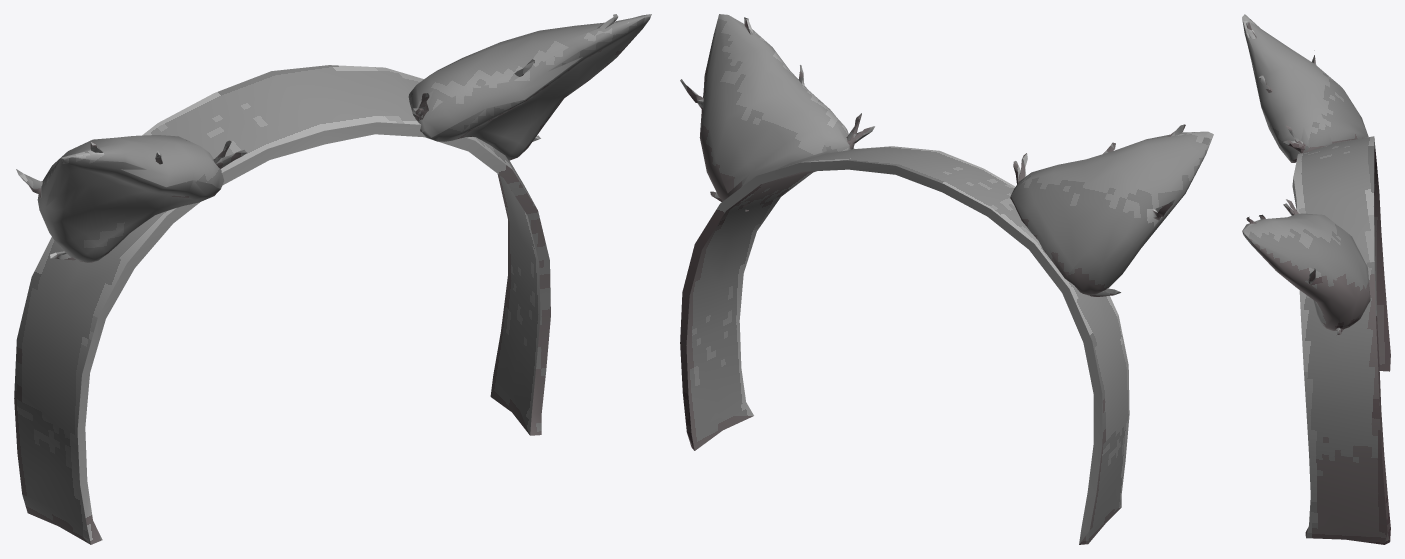
Rendered from wear_catears.glb.
3 views of the same model, side by side, from view 1: azimuth 30°, elevation 25°; view 2: azimuth 150°, elevation 25°; view 3: azimuth 270°, elevation 25° (orthographic). The views are drawn at different scales.
Visible parts, largest first — view 1: mesh; view 2: mesh; view 3: mesh.
Boxes of the visible parts, x1=… form: mesh: x1=14, y1=14, x2=651, y2=544; mesh: x1=680, y1=14, x2=1213, y2=544; mesh: x1=1242, y1=14, x2=1390, y2=544.
Bounding box in the file's own units: 0.1399 × 0.1 × 0.04.
Materials: 1 (1 with a texture image).
